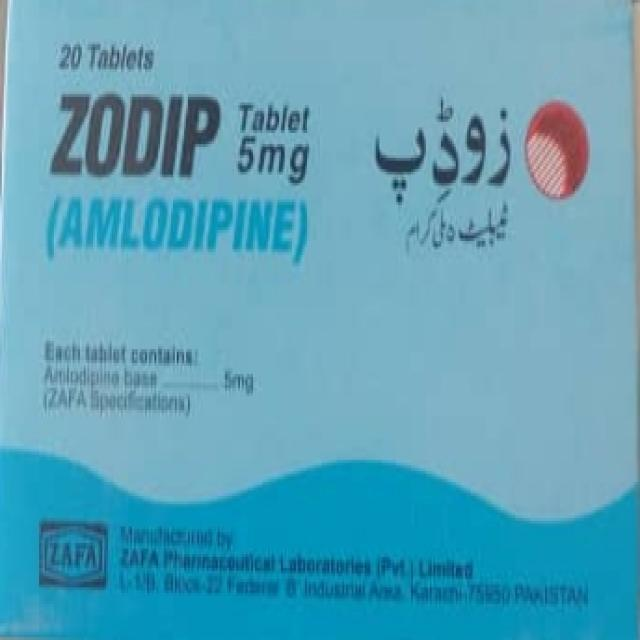drug-name: (51, 92, 224, 184)
